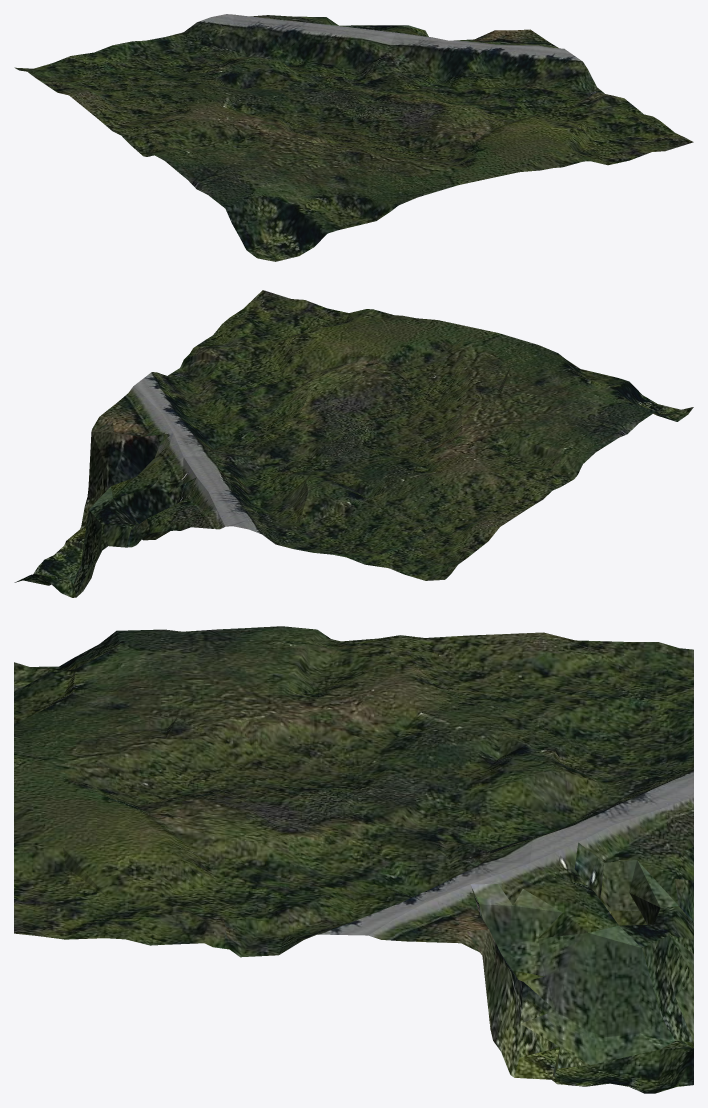
Rendered from map_15_8179_13781.dae.
3 views of the same model, one above another, from view 1: azimuth 30°, elevation 25°; view 2: azimuth 150°, elevation 25°; view 3: azimuth 270°, elevation 25° (orthographic). The views are drawn at different scales.
Visible parts, largest first — view 1: Ter0; view 2: Ter0; view 3: Ter0.
Part boxes in pixels (x1,y1,x2,y2): Ter0: (14,14,693,261); Ter0: (14,290,693,597); Ter0: (14,626,693,1093).
Size of the model in its own units: 63.87 by 63.88 by 18.96.
Materials: 3 (3 with a texture image).
